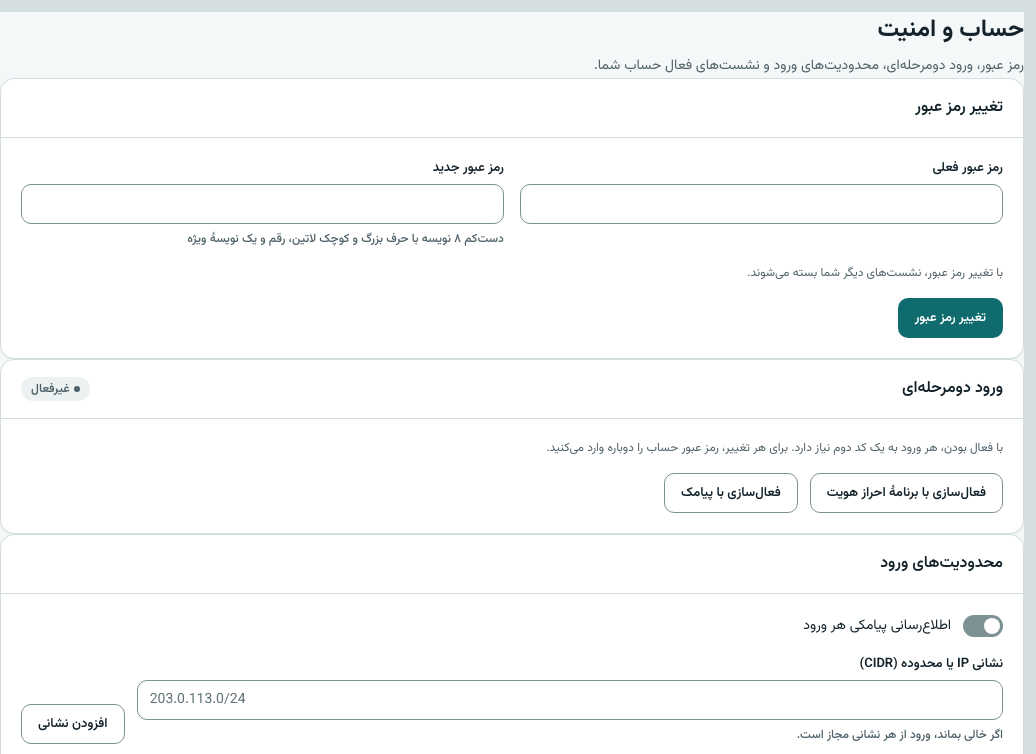
Test: ProfileSecurity › enables SMS 2FA with the account password
The image size is (1036, 754).
Click the button "فعال‌سازی با پیامک".
click(731, 493)  # box top-left (664, 473), bottom-right (798, 513)
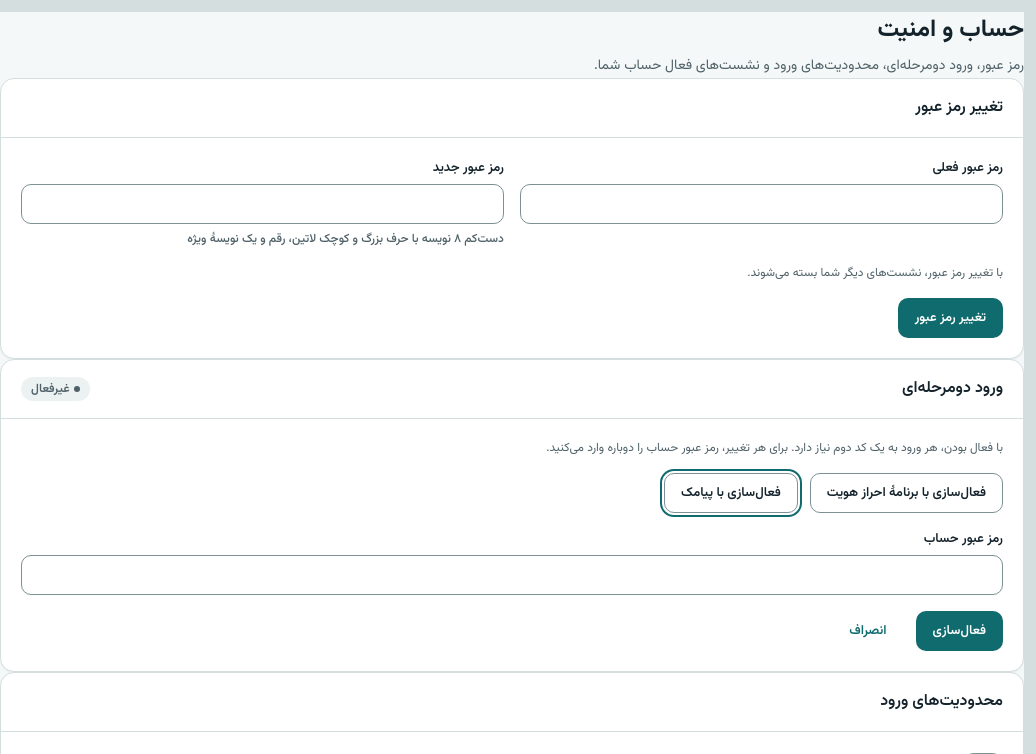
Type "Mypass1!" into the password field labelled "رمز عبور حساب".
click(512, 575); type("Mypass1!")  # box top-left (21, 555), bottom-right (1003, 595)
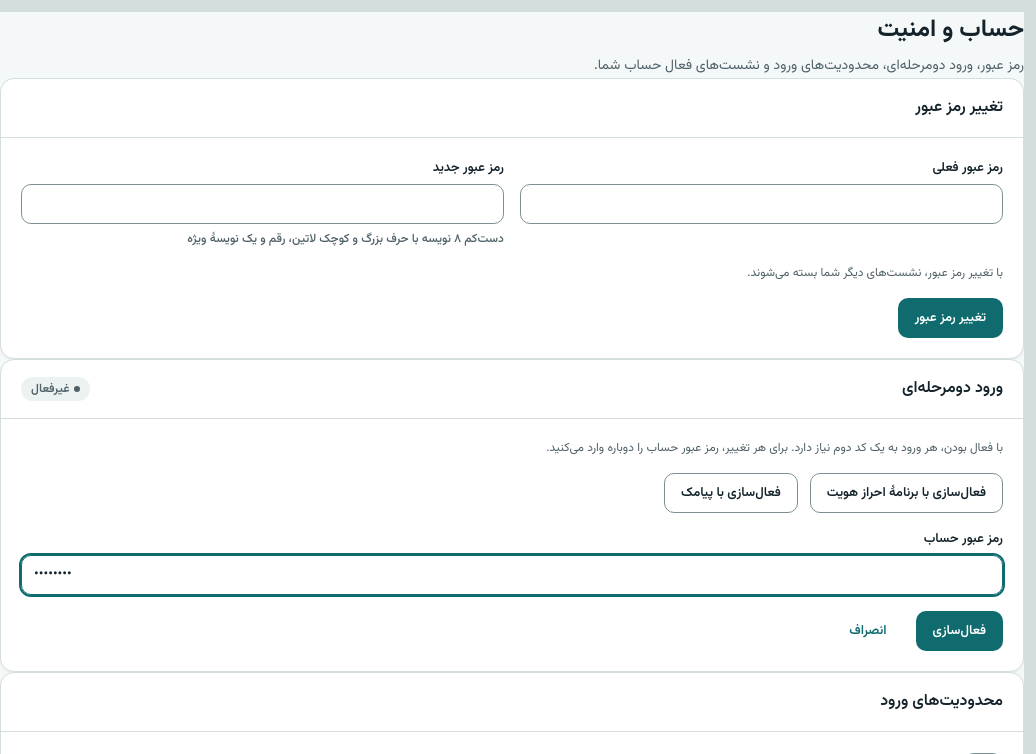
Click the button "فعال‌سازی".
click(959, 631)  # box top-left (916, 611), bottom-right (1003, 651)
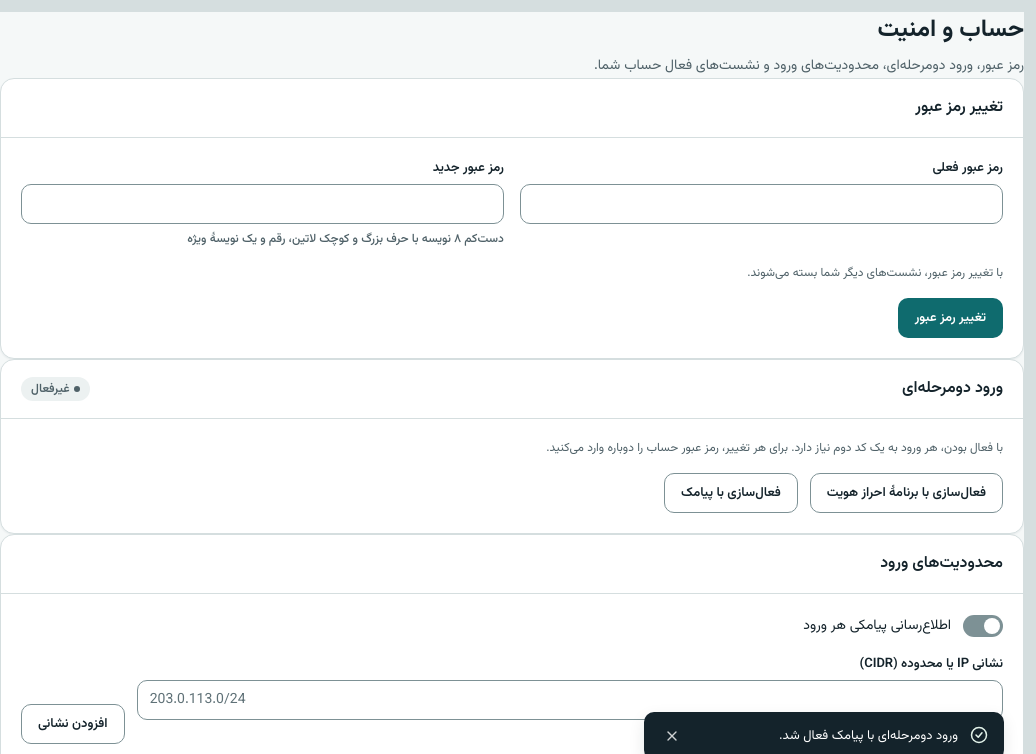
Expected: the text "ورود دومرحله‌ای با پیامک فعال شد." is shown, top-left (779, 726), bottom-right (958, 746)
